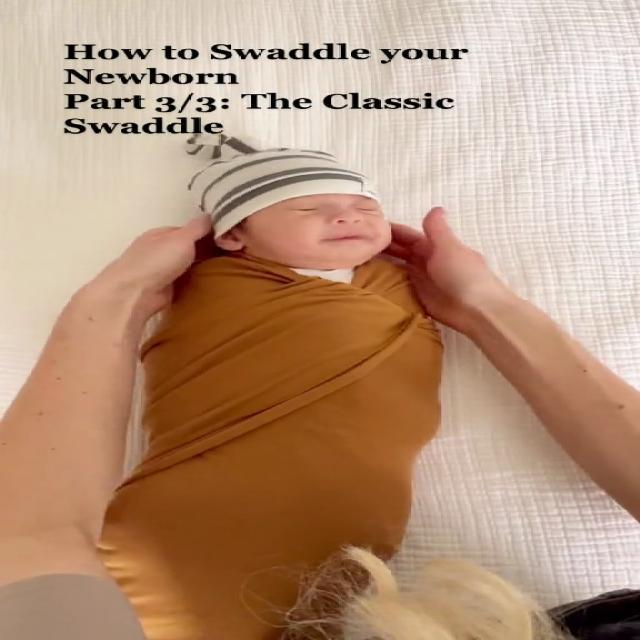baby: (103, 126, 440, 640)
